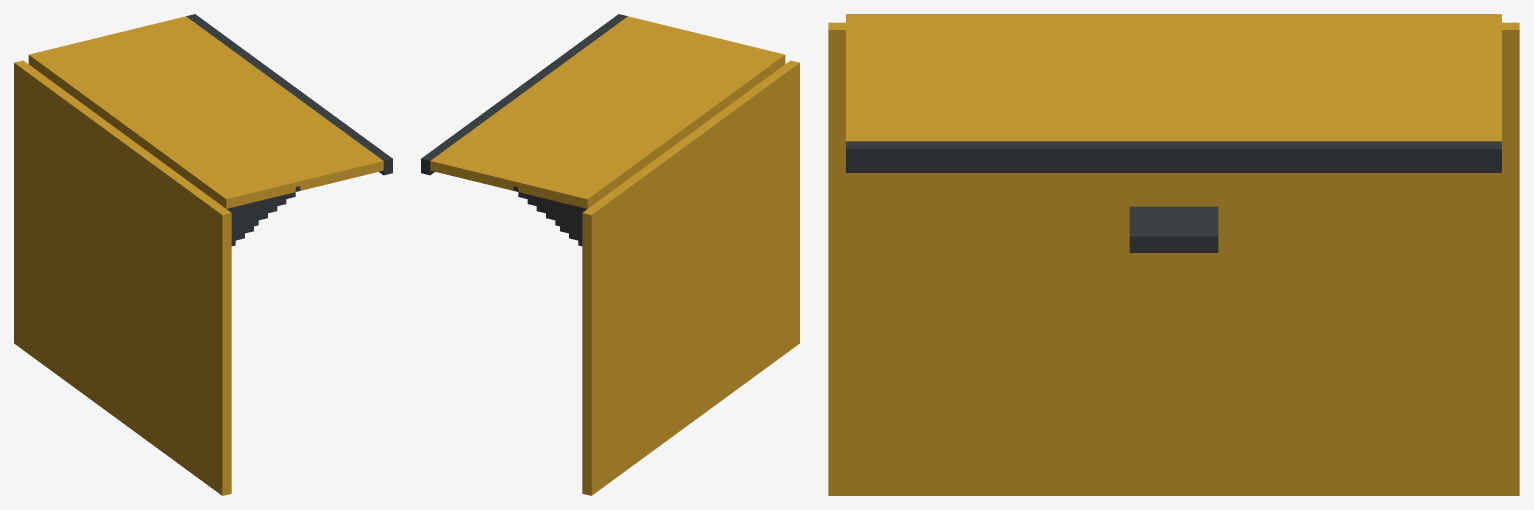
File: tipper_truck_tub_front.glb
3 views of the same model, side by side, from view 1: azimuth 30°, elevation 25°; view 2: azimuth 150°, elevation 25°; view 3: azimuth 270°, elevation 25° (orthographic). The views are drawn at different scales.
Parts seen in each view (by area): view 1: body:compound; view 2: body:compound; view 3: body:compound.
Part boxes in pixels (x1,y1,x2,y2): body:compound: [14, 14, 392, 495]; body:compound: [421, 14, 799, 495]; body:compound: [828, 14, 1519, 495].
Size of the model in its own units: 1.19 by 1.88 by 2.44.
